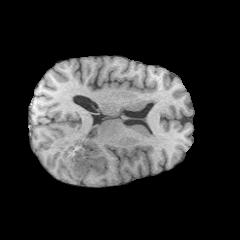glioma: (56, 134, 103, 179)
